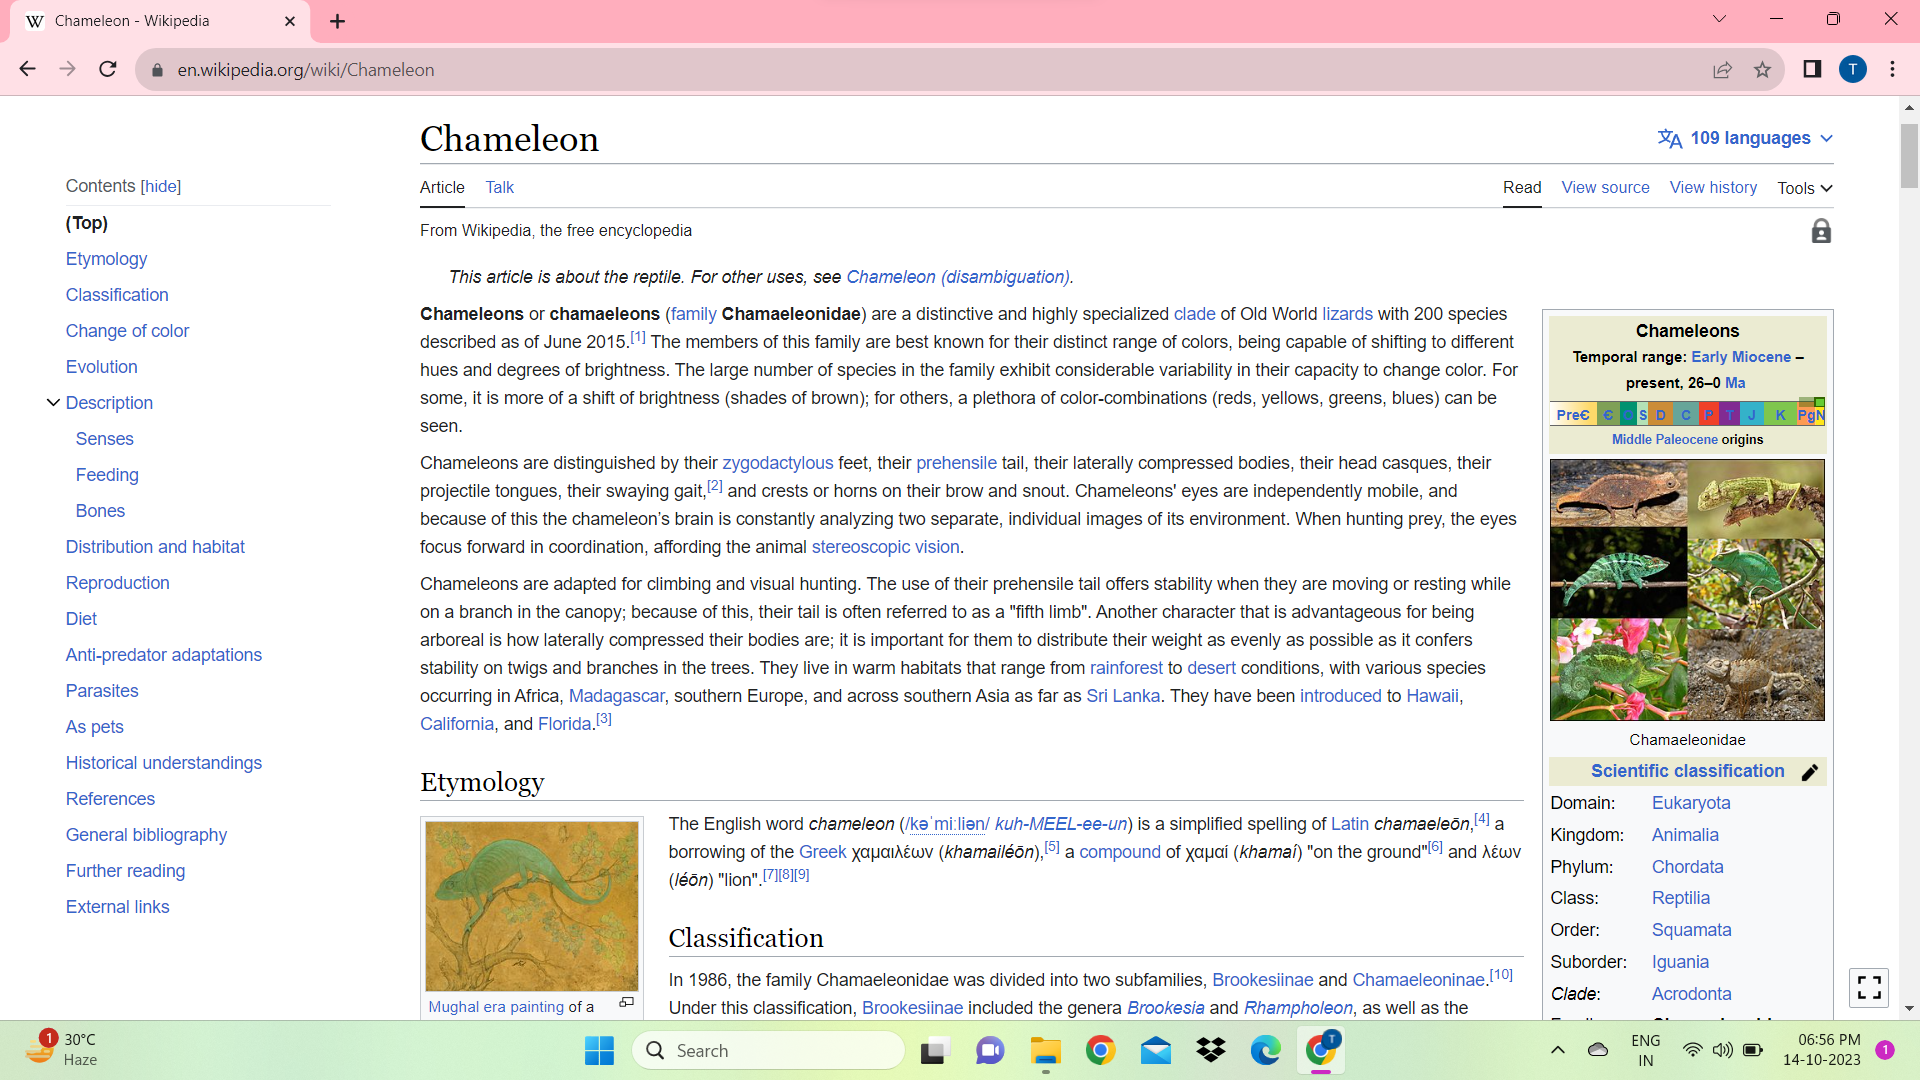Image: (1542, 451, 1838, 716), (414, 818, 652, 1001), (1551, 315, 1836, 449)
Paragraph: (406, 572, 1538, 738), (397, 285, 1547, 438), (408, 444, 1525, 557), (645, 796, 1542, 897), (654, 962, 1549, 1020), (431, 261, 1109, 291), (403, 116, 634, 168), (406, 214, 705, 246), (58, 524, 252, 572), (58, 749, 285, 785), (662, 910, 844, 954), (403, 759, 572, 800), (58, 820, 233, 852), (67, 311, 194, 347), (54, 677, 181, 712), (65, 166, 196, 196), (56, 246, 179, 272)
